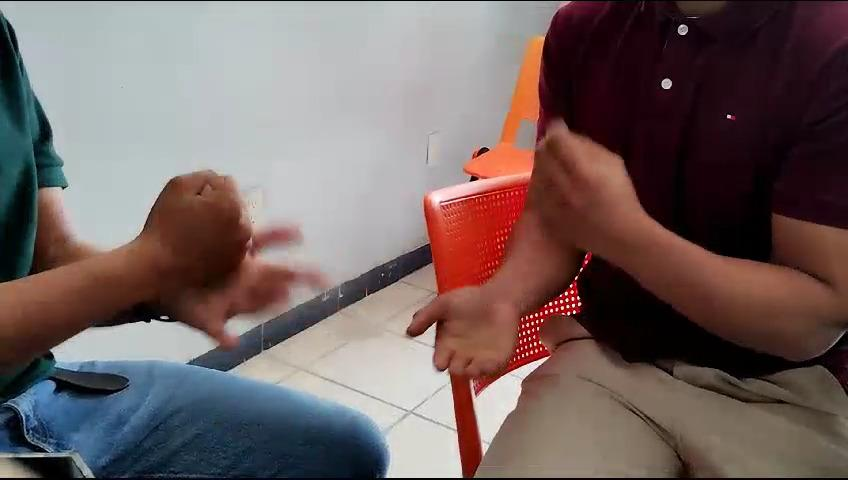Paper: (397, 275, 536, 388)
Stone: (518, 115, 645, 256), (138, 160, 263, 302)
